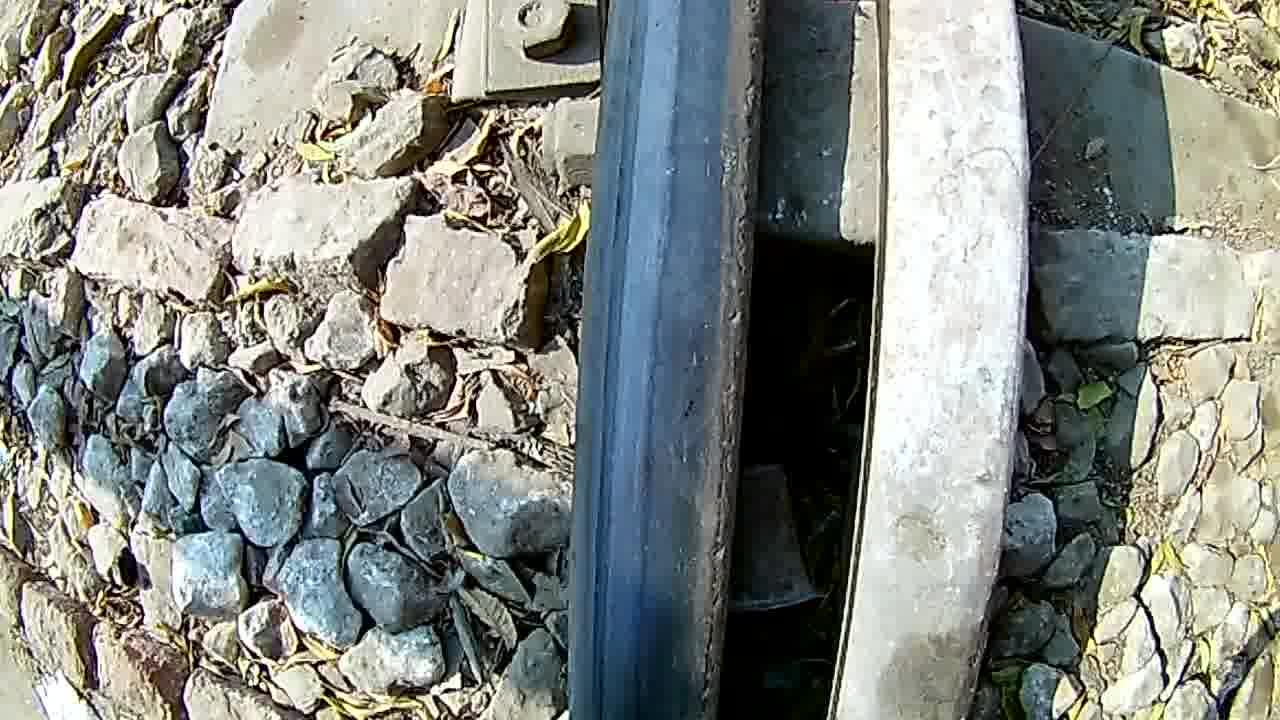clip_missing: (560, 3, 774, 720)
